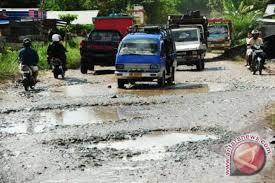Pothole: (54, 125, 241, 158), (0, 102, 176, 136), (57, 77, 232, 97), (190, 64, 230, 78)
